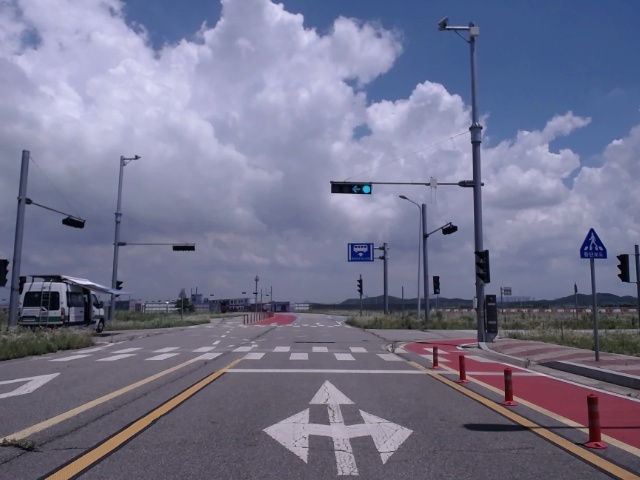all_green_4: (330, 182, 371, 193)
